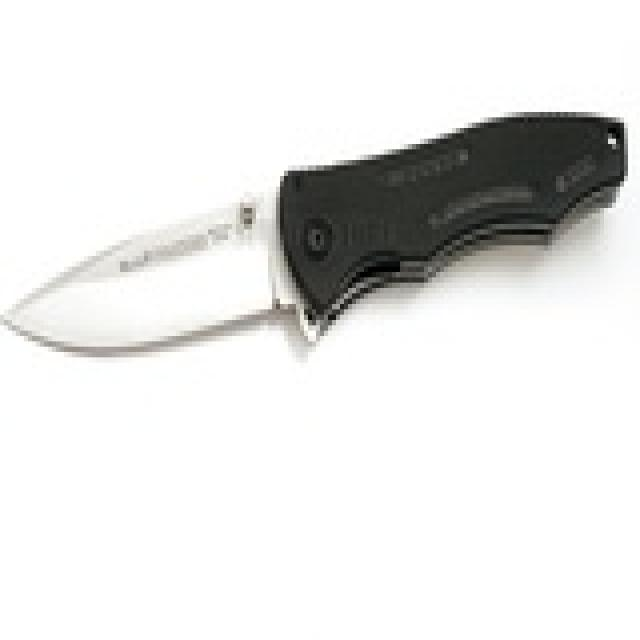Knife: (7, 115, 640, 389)
